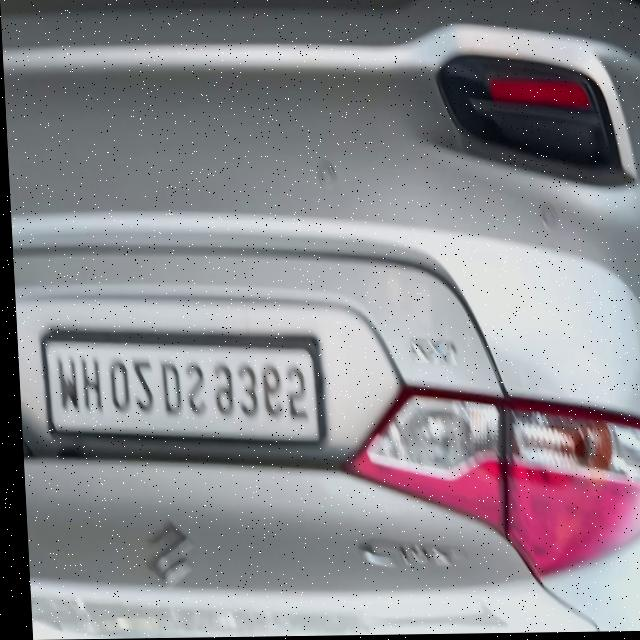plate: (37, 331, 321, 451)
